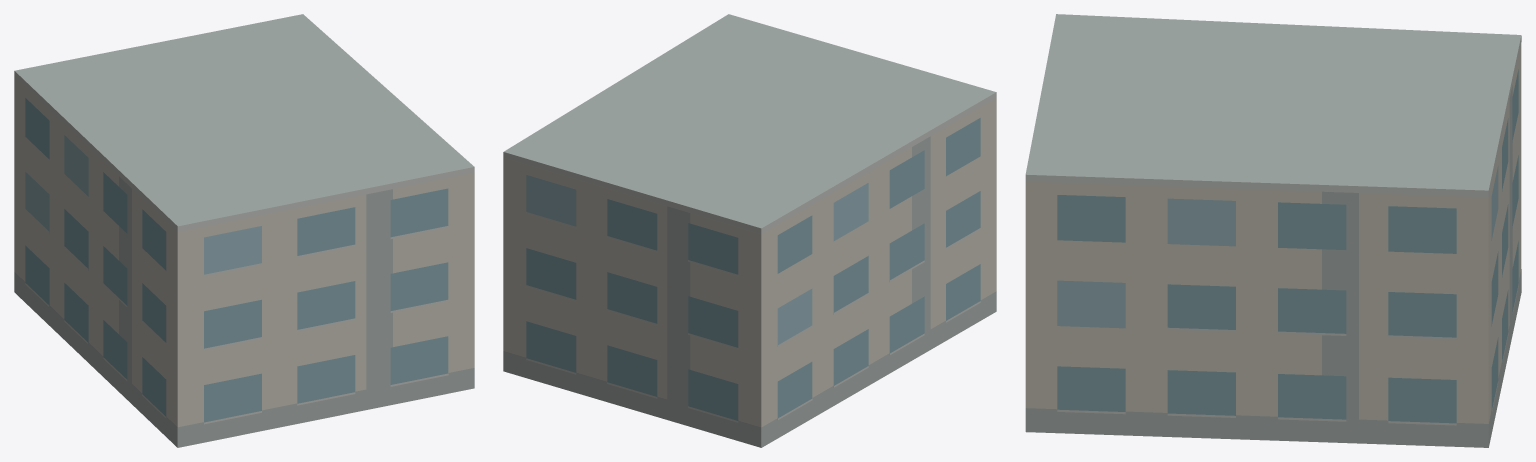
File: survey-upis-32704475.glb
3 views of the same model, side by side, from view 1: azimuth 30°, elevation 25°; view 2: azimuth 150°, elevation 25°; view 3: azimuth 270°, elevation 25° (orthographic). The views are drawn at different scales.
Visible parts, largest first — view 1: survey-upis-32704475.tmp; view 2: survey-upis-32704475.tmp; view 3: survey-upis-32704475.tmp.
Part boxes in pixels (box(x1,y1,x2,y2)): survey-upis-32704475.tmp: box(14, 14, 474, 447); survey-upis-32704475.tmp: box(503, 14, 996, 447); survey-upis-32704475.tmp: box(1025, 14, 1521, 447).
Bounding box in the file's own units: 13.48 × 9.15 × 16.
